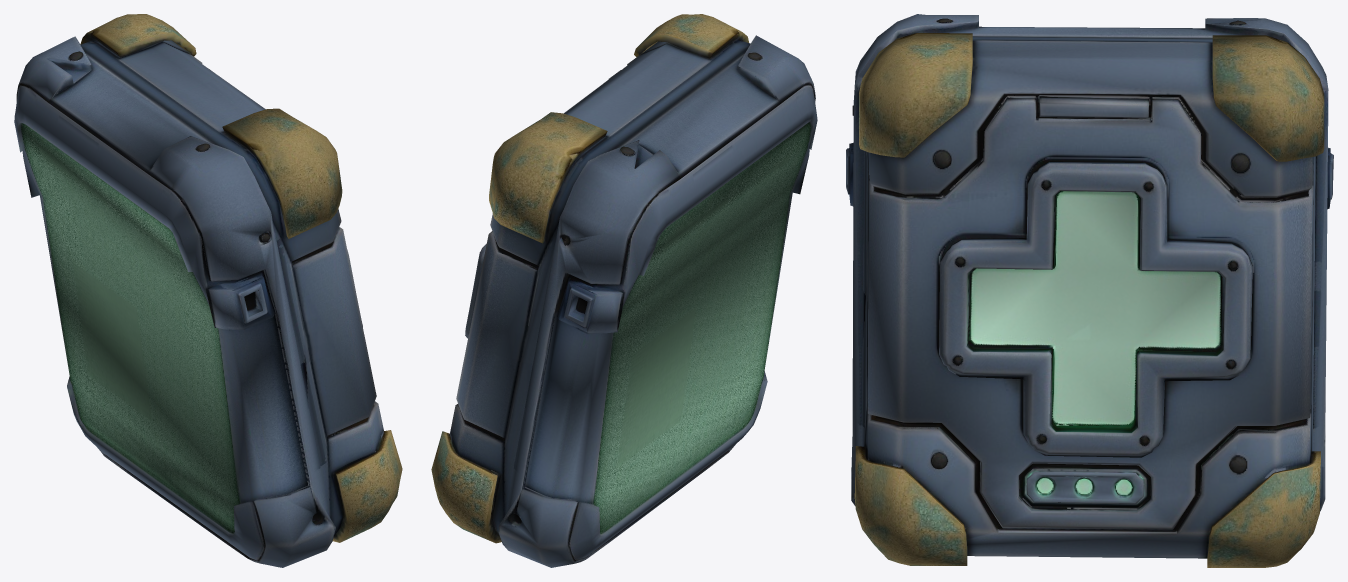
The model's file is tripo_convert_fac85e06-fcbe-4553-bd22-ebf549e0b47e.fbx.
3 renders of one model, left to right at view 1: azimuth 30°, elevation 25°; view 2: azimuth 150°, elevation 25°; view 3: azimuth 270°, elevation 25°, orthographic. The views are drawn at different scales.
Parts seen in each view (by area): view 1: tripo_node_fac85e06; view 2: tripo_node_fac85e06; view 3: tripo_node_fac85e06.
Boxes of the visible parts, x1=… form: tripo_node_fac85e06: x1=14, y1=14, x2=402, y2=567; tripo_node_fac85e06: x1=431, y1=14, x2=817, y2=567; tripo_node_fac85e06: x1=846, y1=14, x2=1333, y2=567.
Size of the model in its own units: 0.5449 by 0.998 by 0.8809.
1 material, 1 textured.
